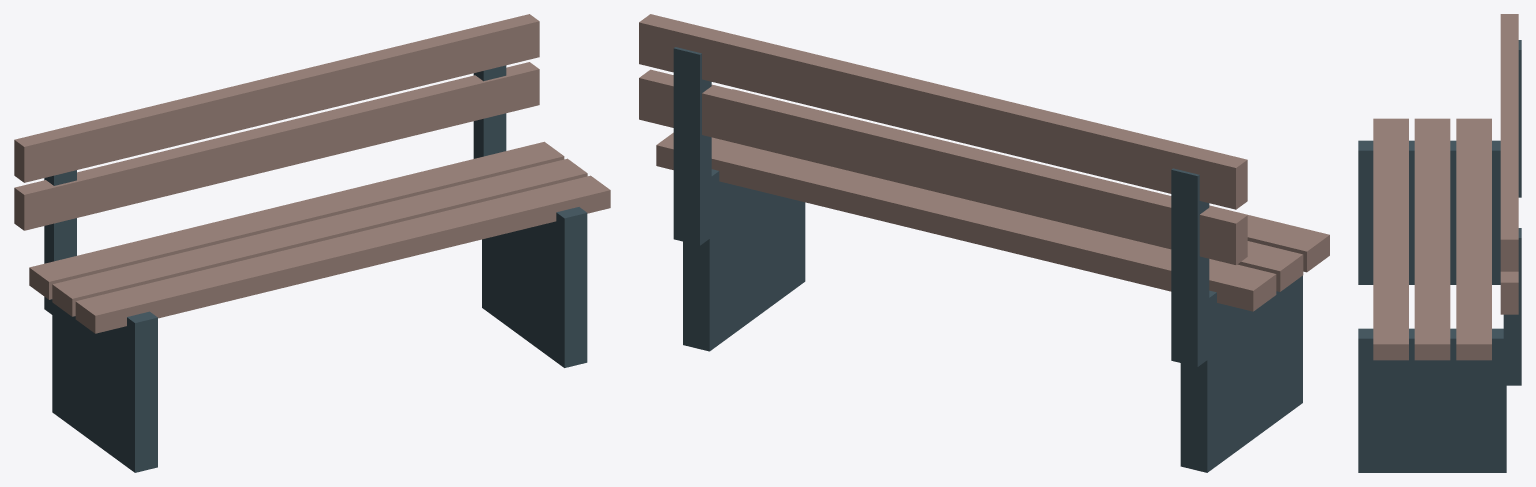
File: bench.glb
3 views of the same model, side by side, from view 1: azimuth 30°, elevation 25°; view 2: azimuth 150°, elevation 25°; view 3: azimuth 270°, elevation 25° (orthographic). The views are drawn at different scales.
Parts seen in each view (by area): view 1: bench; view 2: bench; view 3: bench.
Part boxes in pixels (x1,y1,x2,y2): bench: [14, 14, 610, 472]; bench: [639, 14, 1329, 472]; bench: [1358, 14, 1521, 472].
Size of the model in its own units: 1.8 by 0.92 by 0.55.
